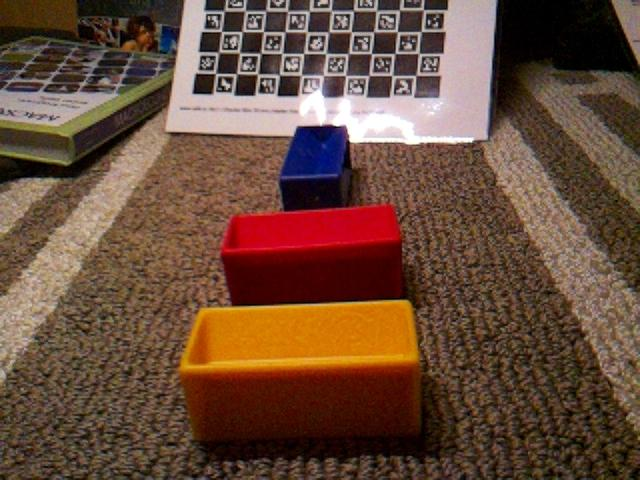blue: (277, 123, 354, 211)
red: (219, 202, 405, 305)
yellow: (178, 298, 423, 444)
